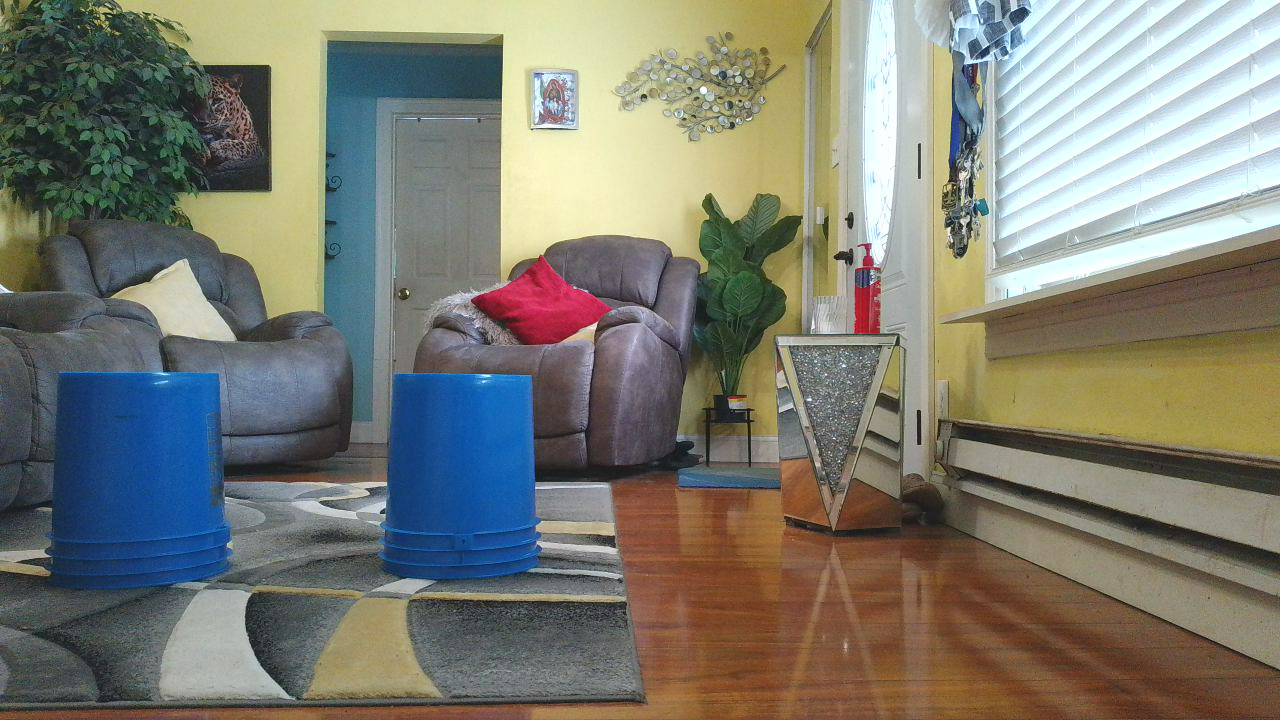blue_bucket: (41, 371, 243, 602), (374, 373, 553, 592)
